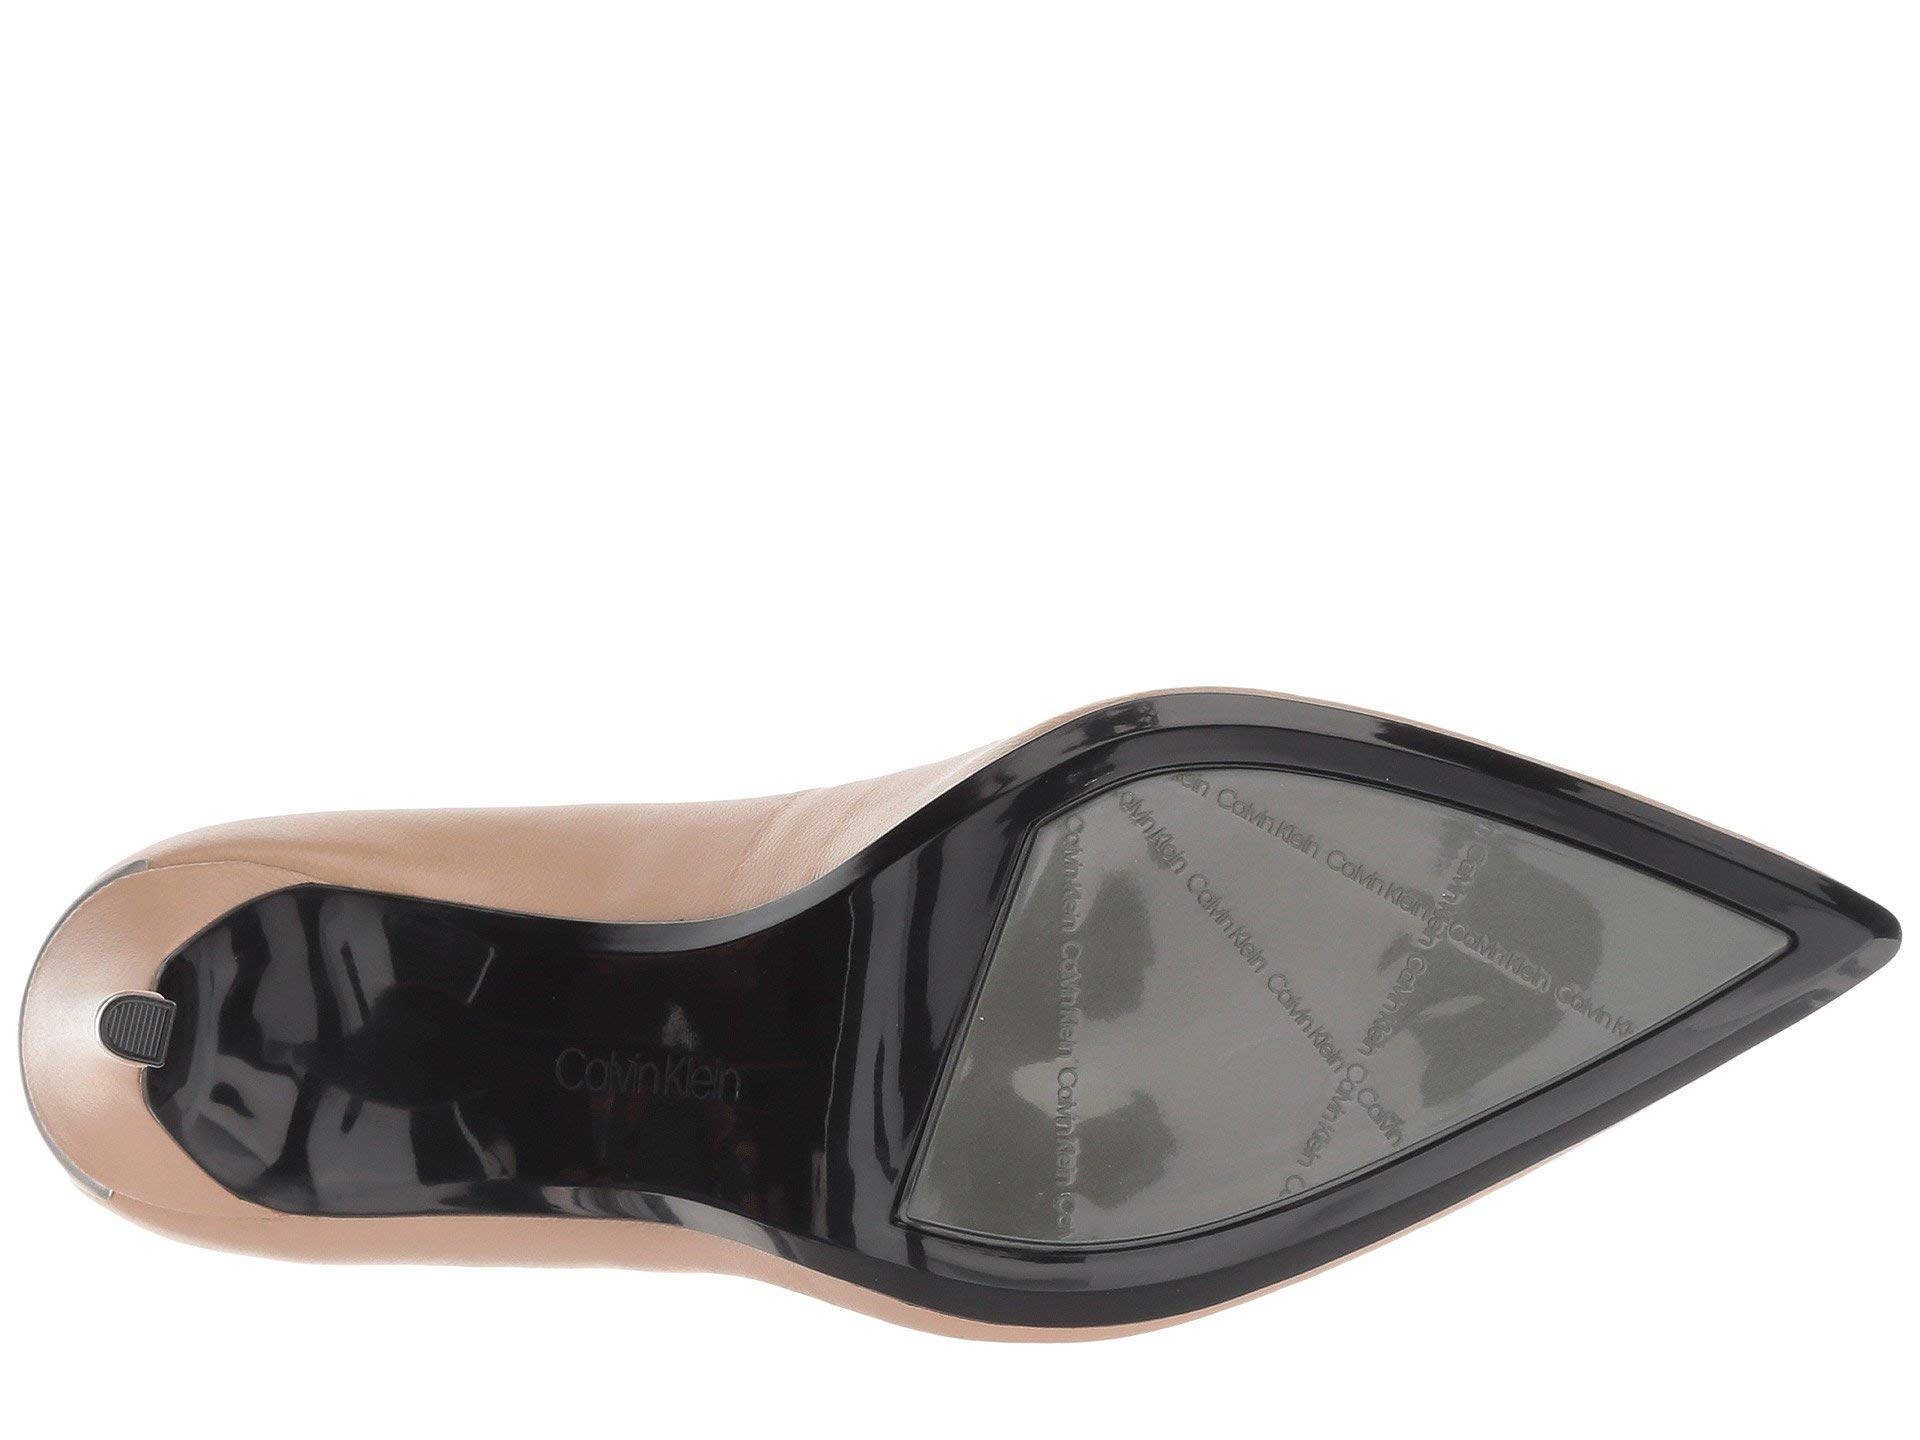exclude: (17, 697, 968, 1364)
line: (1076, 805, 1409, 1109), (1388, 873, 1613, 1063)
text: (1076, 805, 1409, 1109), (1388, 873, 1613, 1063)
